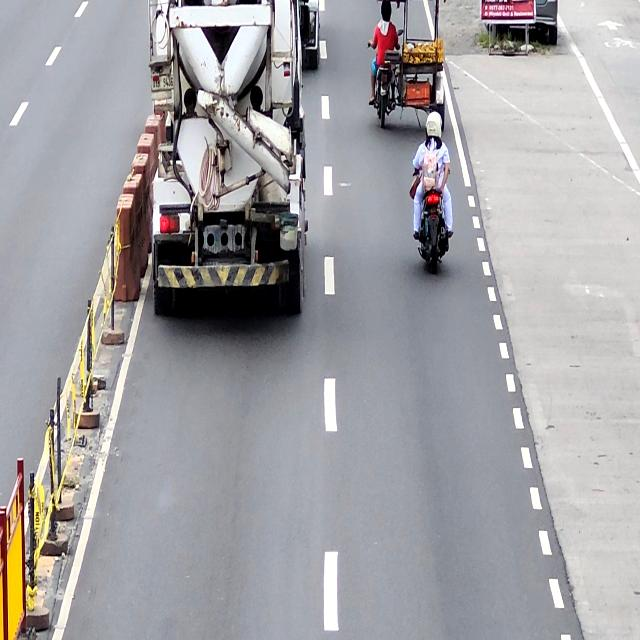License-Plate: (150, 76, 174, 94)
Motorcycle: (415, 153, 449, 272)
Tricycle: (369, 24, 450, 128)
Truck: (146, 0, 308, 320)
